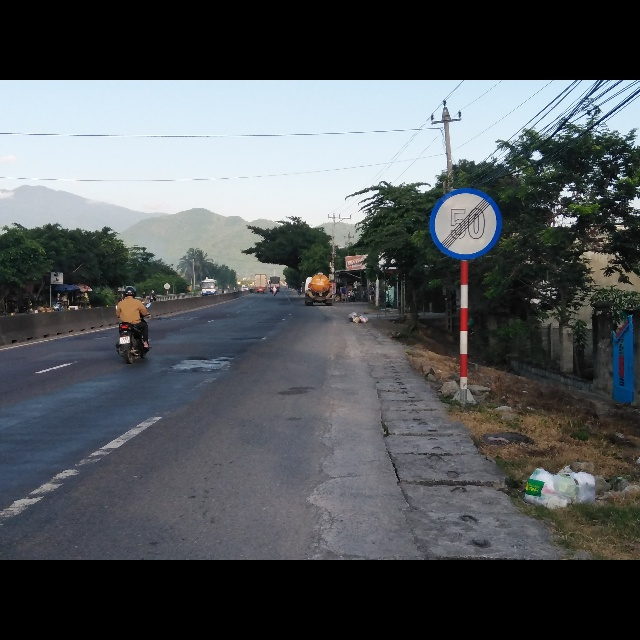Hết hạn chế tốc độ tối đa 50km/h: (426, 186, 505, 259)
